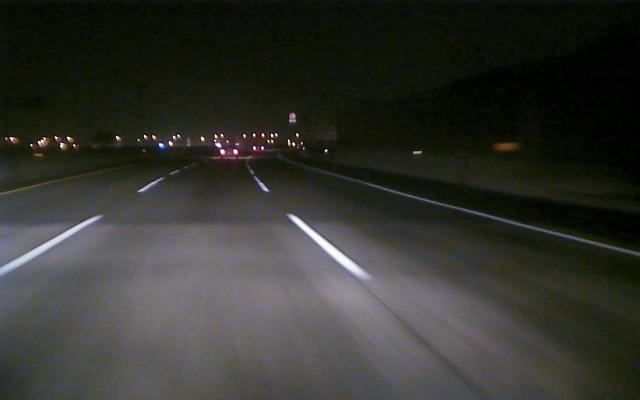lane: (327, 173, 637, 257), (2, 181, 158, 275), (252, 175, 379, 285)
